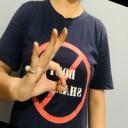hand: (19, 26, 69, 103)
